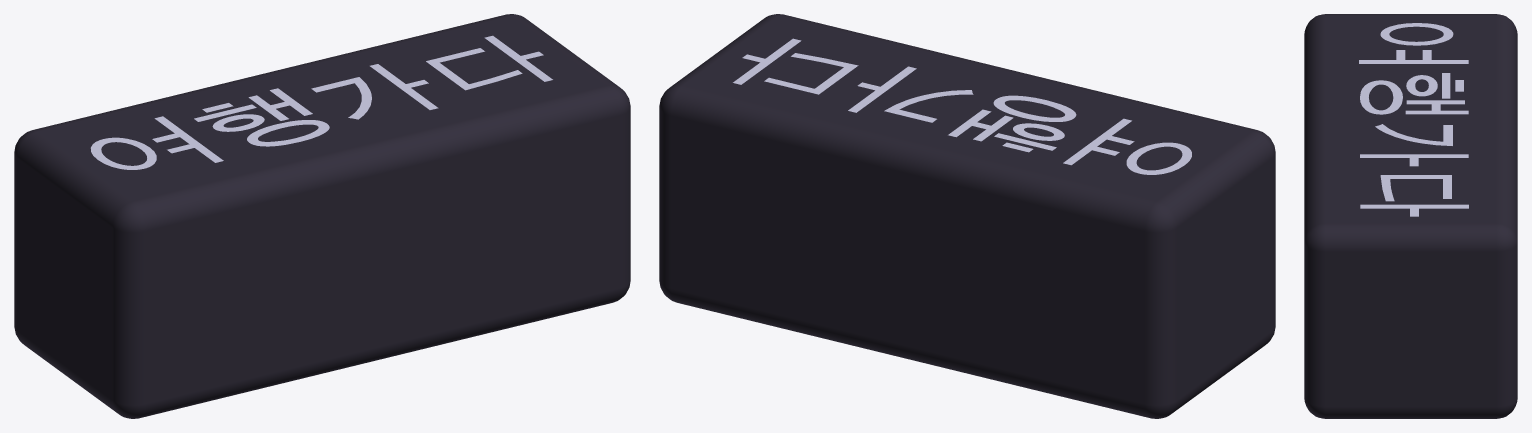
File: go_on_trip.glb
3 renders of one model, left to right at view 1: azimuth 30°, elevation 25°; view 2: azimuth 150°, elevation 25°; view 3: azimuth 270°, elevation 25°, orthographic. The views are drawn at different scales.
Visible parts, largest first — view 1: Cut, Extrude; view 2: Cut, Extrude; view 3: Cut, Extrude.
Boxes of the visible parts, bbox=[...] form: Cut: bbox=[14, 14, 630, 418]; Extrude: bbox=[90, 35, 552, 169]; Cut: bbox=[659, 14, 1275, 418]; Extrude: bbox=[733, 38, 1191, 174]; Cut: bbox=[1304, 14, 1517, 418]; Extrude: bbox=[1359, 23, 1468, 216].
Bounding box in the file's own units: 5 × 2 × 2.
